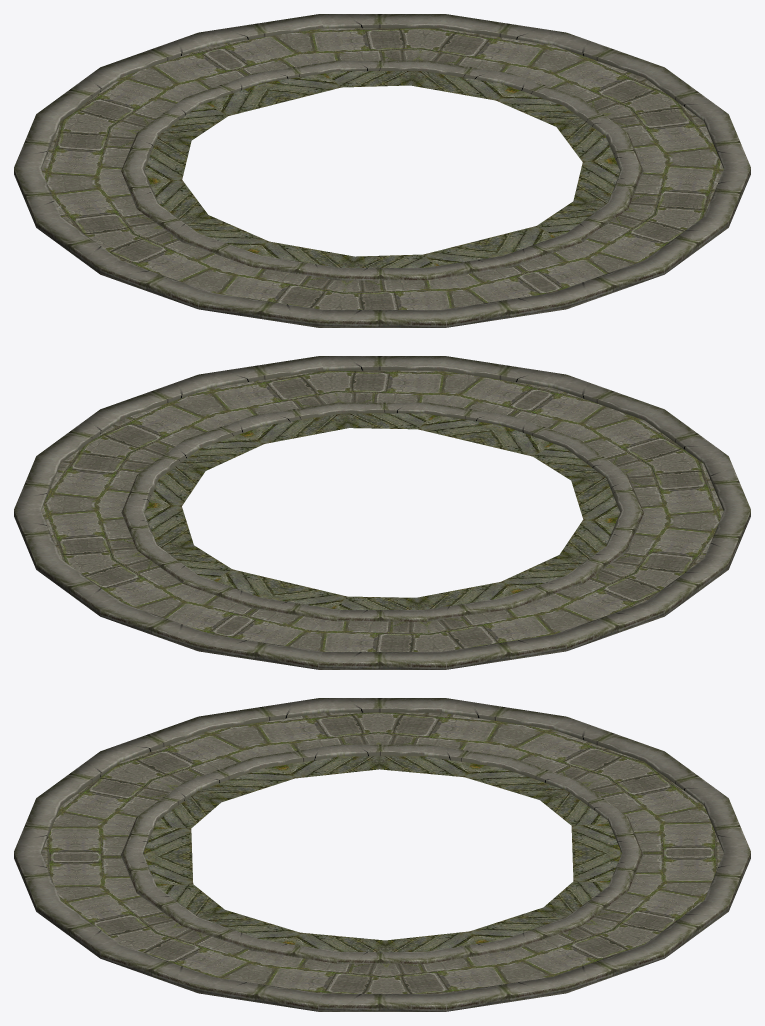
File: s_battle_01_floor_03.FBX
3 renders of one model, top to bottom at view 1: azimuth 30°, elevation 25°; view 2: azimuth 150°, elevation 25°; view 3: azimuth 270°, elevation 25°, orthographic.
Visible parts, largest first — view 1: f3; view 2: f3; view 3: f3.
Part boxes in pixels (<box>): f3: <box>14,14,750,327</box>; f3: <box>14,356,750,669</box>; f3: <box>14,698,750,1011</box>.
Size of the model in its own units: 22.15 by 0.2368 by 22.5.
Materials: 1 (1 with a texture image).
